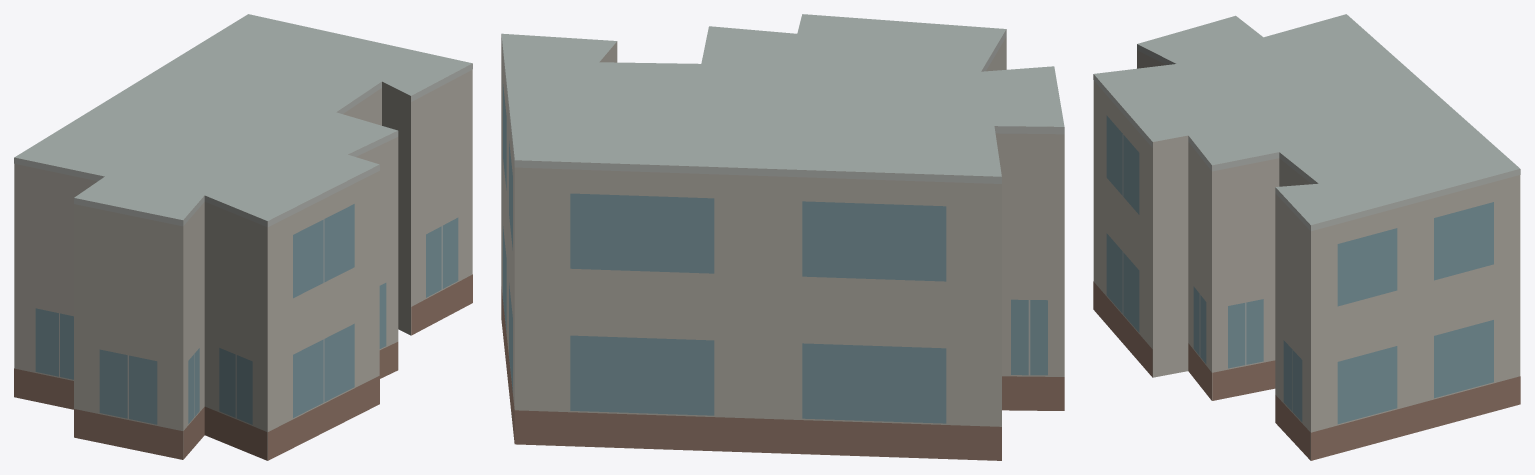
Rendered from survey-upis-32865507.glb.
The picture shows the model from 3 angles, left to right: view 1: azimuth 30°, elevation 25°; view 2: azimuth 150°, elevation 25°; view 3: azimuth 270°, elevation 25°; orthographic projection. The views are drawn at different scales.
Parts seen in each view (by area): view 1: survey-upis-32865507.tmp; view 2: survey-upis-32865507.tmp; view 3: survey-upis-32865507.tmp.
Part boxes in pixels (x1=…): survey-upis-32865507.tmp: x1=14, y1=14, x2=472, y2=460; survey-upis-32865507.tmp: x1=501, y1=14, x2=1064, y2=460; survey-upis-32865507.tmp: x1=1093, y1=14, x2=1520, y2=460.
Bounding box in the file's own units: 18.14 × 9.43 × 15.49.
